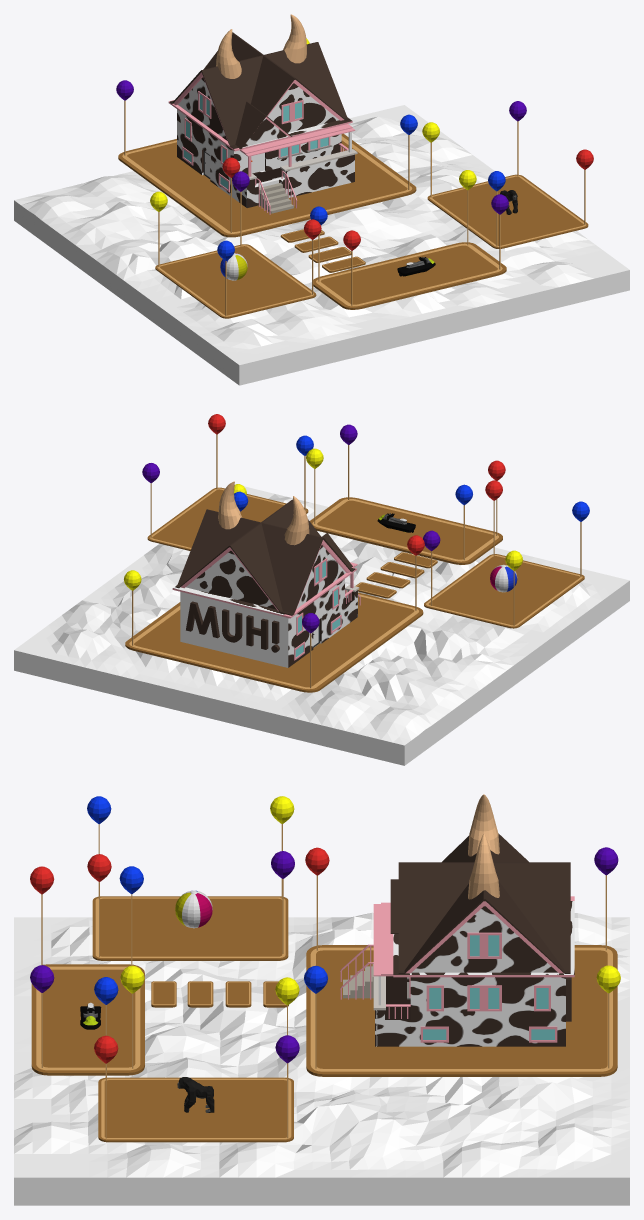
3 views of the same model, one above another, from view 1: azimuth 30°, elevation 25°; view 2: azimuth 150°, elevation 25°; view 3: azimuth 270°, elevation 25° (orthographic). The views are drawn at different scales.
Parts seen in each view (by area): view 1: Cube.013, Cube.1242, OBJRANDOM_BEACHBALL; view 2: Cube.013, Cube.1242, OBJRANDOM_BEACHBALL; view 3: Cube.013, Cube.1242, OBJRANDOM_BEACHBALL, ANIMAL_GORILA.
Boxes of the visible parts, x1=… form: Cube.013: x1=14, y1=38, x2=629, y2=385; Cube.1242: x1=168, y1=14, x2=357, y2=214; OBJRANDOM_BEACHBALL: x1=220, y1=253, x2=247, y2=280; Cube.013: x1=14, y1=414, x2=629, y2=765; Cube.1242: x1=172, y1=481, x2=360, y2=667; OBJRANDOM_BEACHBALL: x1=490, y1=564, x2=517, y2=592; Cube.013: x1=14, y1=796, x2=629, y2=1205; Cube.1242: x1=340, y1=794, x2=574, y2=1046; OBJRANDOM_BEACHBALL: x1=175, y1=890, x2=212, y2=928; ANIMAL_GORILA: x1=177, y1=1077, x2=214, y2=1112.
Bounding box in the file's own units: 4000 × 1955 × 4000.
Materials: 31 (1 with a texture image).
